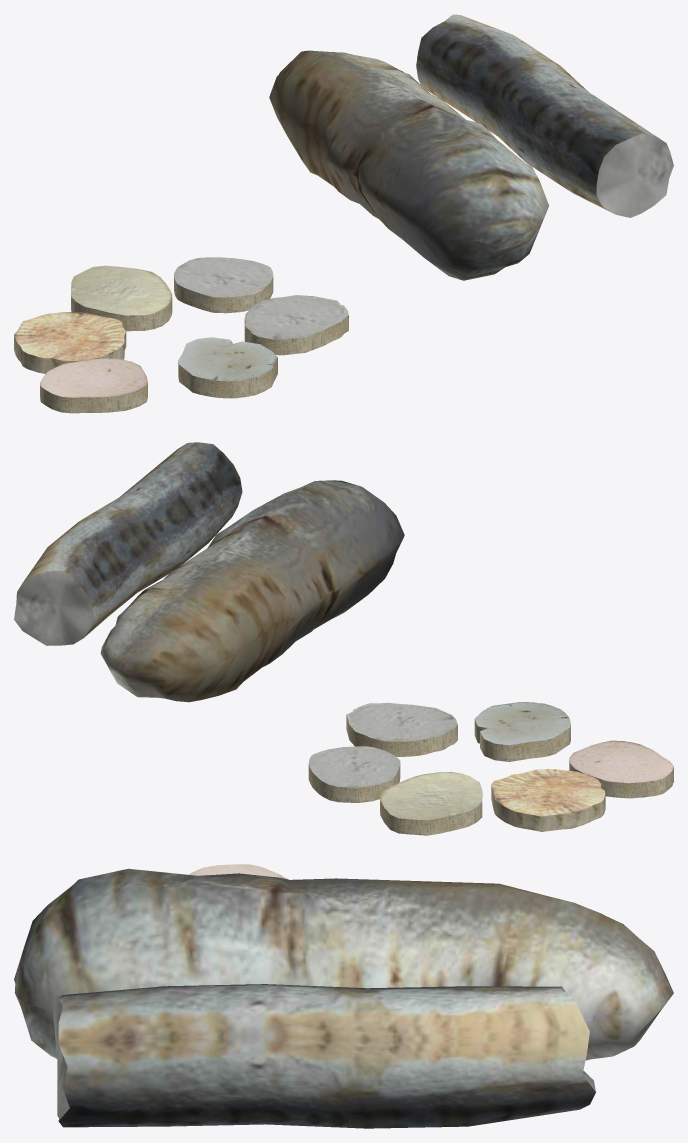
Rendered from tianhuafen.FBX.
3 renders of one model, top to bottom at view 1: azimuth 30°, elevation 25°; view 2: azimuth 150°, elevation 25°; view 3: azimuth 270°, elevation 25°, orthographic. The views are drawn at different scales.
Parts seen in each view (by area): view 1: Line006, Cylinder002, Line001, Line002, Line004, Cylinder001, Line005, Line003; view 2: Line006, Cylinder002, Line001, Line002, Line005, Cylinder001, Line004, Line003; view 3: Cylinder002, Line006, Line004.
Part boxes in pixels (bbox=[...]): Line006: bbox=[269, 50, 548, 280]; Cylinder002: bbox=[416, 14, 673, 217]; Line001: bbox=[14, 312, 126, 373]; Line002: bbox=[71, 265, 172, 331]; Line004: bbox=[40, 358, 147, 413]; Cylinder001: bbox=[178, 337, 277, 398]; Line005: bbox=[244, 295, 348, 355]; Line003: bbox=[174, 257, 273, 313]; Line006: bbox=[100, 480, 404, 702]; Cylinder002: bbox=[14, 442, 242, 645]; Line001: bbox=[491, 769, 605, 831]; Line002: bbox=[380, 772, 482, 835]; Line005: bbox=[346, 702, 457, 756]; Cylinder001: bbox=[474, 702, 570, 761]; Line004: bbox=[569, 740, 673, 798]; Line003: bbox=[308, 746, 400, 802]; Cylinder002: bbox=[53, 984, 595, 1128]; Line006: bbox=[14, 868, 673, 1060]; Line004: bbox=[189, 864, 289, 879].
Size of the model in its own units: 48.24 by 15.72 by 32.48.
2 materials, 2 textured.
